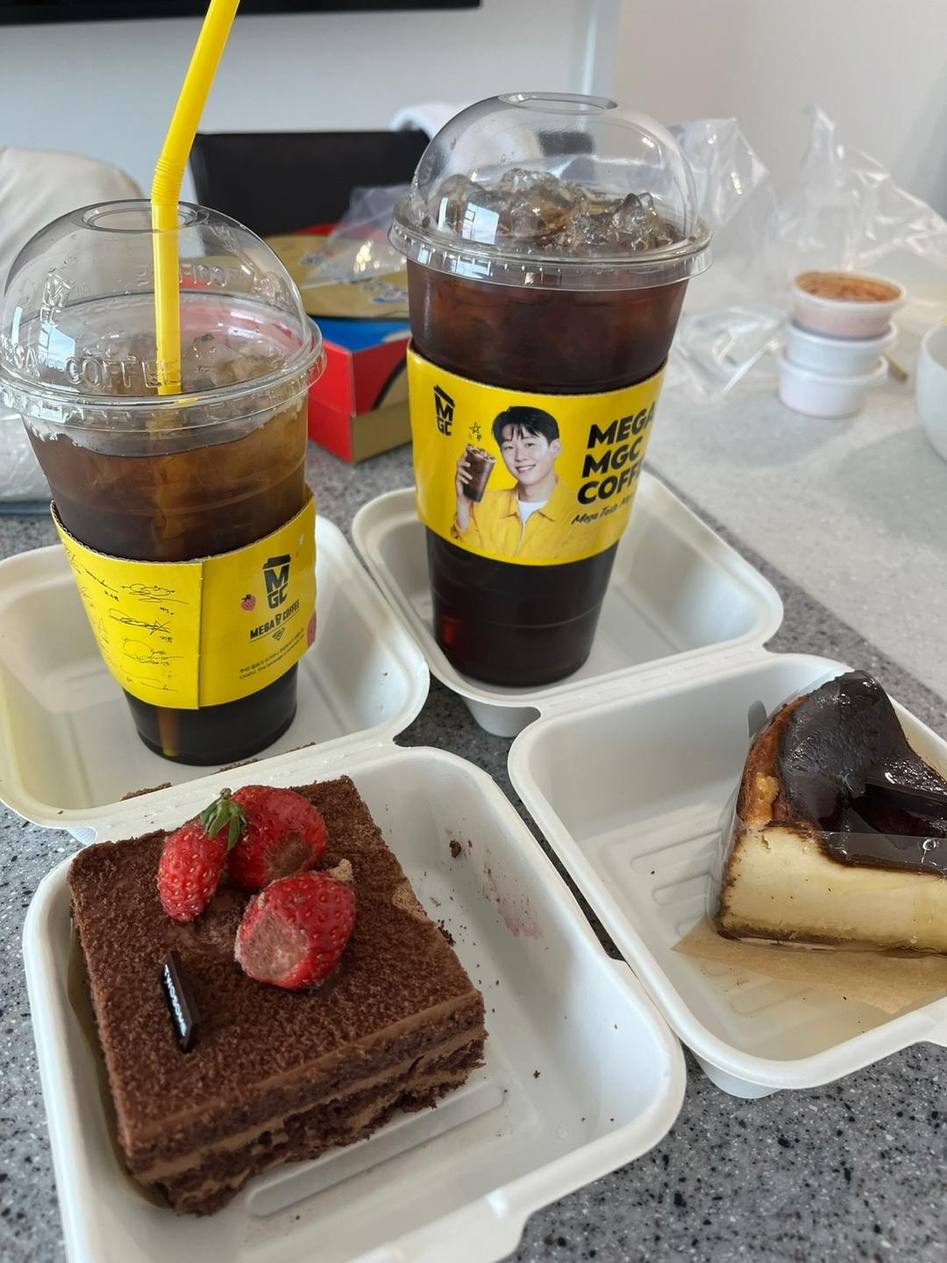Bottle: (390, 94, 710, 683), (0, 201, 324, 763)
Lunch Box: (0, 517, 685, 1262), (353, 475, 946, 1096)
